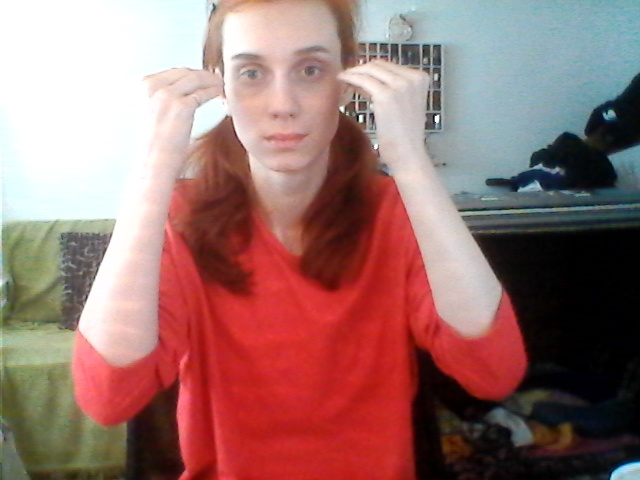ucit: (132, 48, 448, 117)
